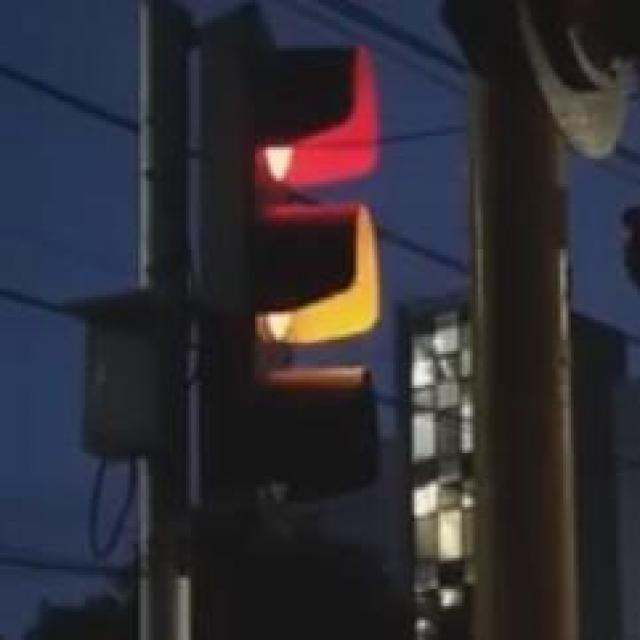yellow_light: (200, 12, 383, 513)
